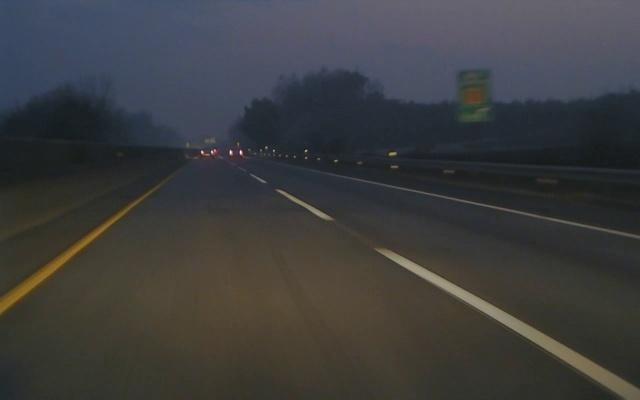lane: (257, 177, 637, 397), (3, 185, 159, 313), (348, 176, 640, 240)
